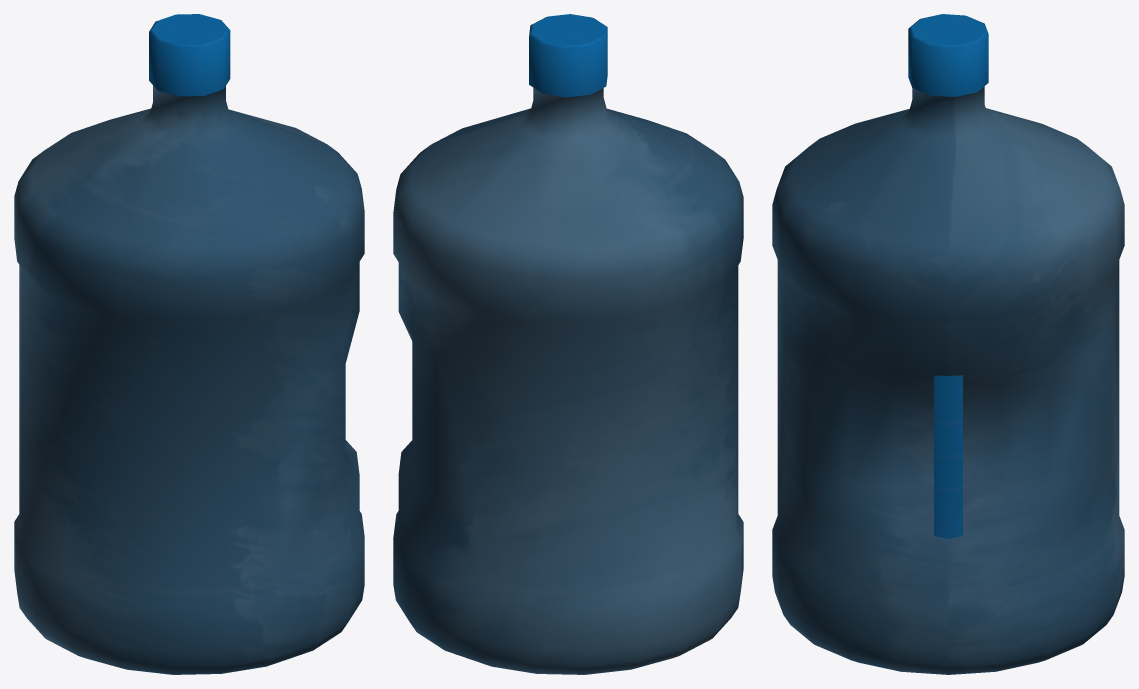
File: BottleA.FBX
3 renders of one model, left to right at view 1: azimuth 30°, elevation 25°; view 2: azimuth 150°, elevation 25°; view 3: azimuth 270°, elevation 25°, orthographic.
Visible parts, largest first — view 1: BottleA_LOD0; view 2: BottleA_LOD0; view 3: BottleA_LOD0.
Boxes of the visible parts, bbox=[...] form: BottleA_LOD0: bbox=[14, 14, 364, 674]; BottleA_LOD0: bbox=[393, 14, 743, 674]; BottleA_LOD0: bbox=[772, 14, 1124, 674].
Size of what is drawn, in the model's own units: 27 by 49.28 by 27.
